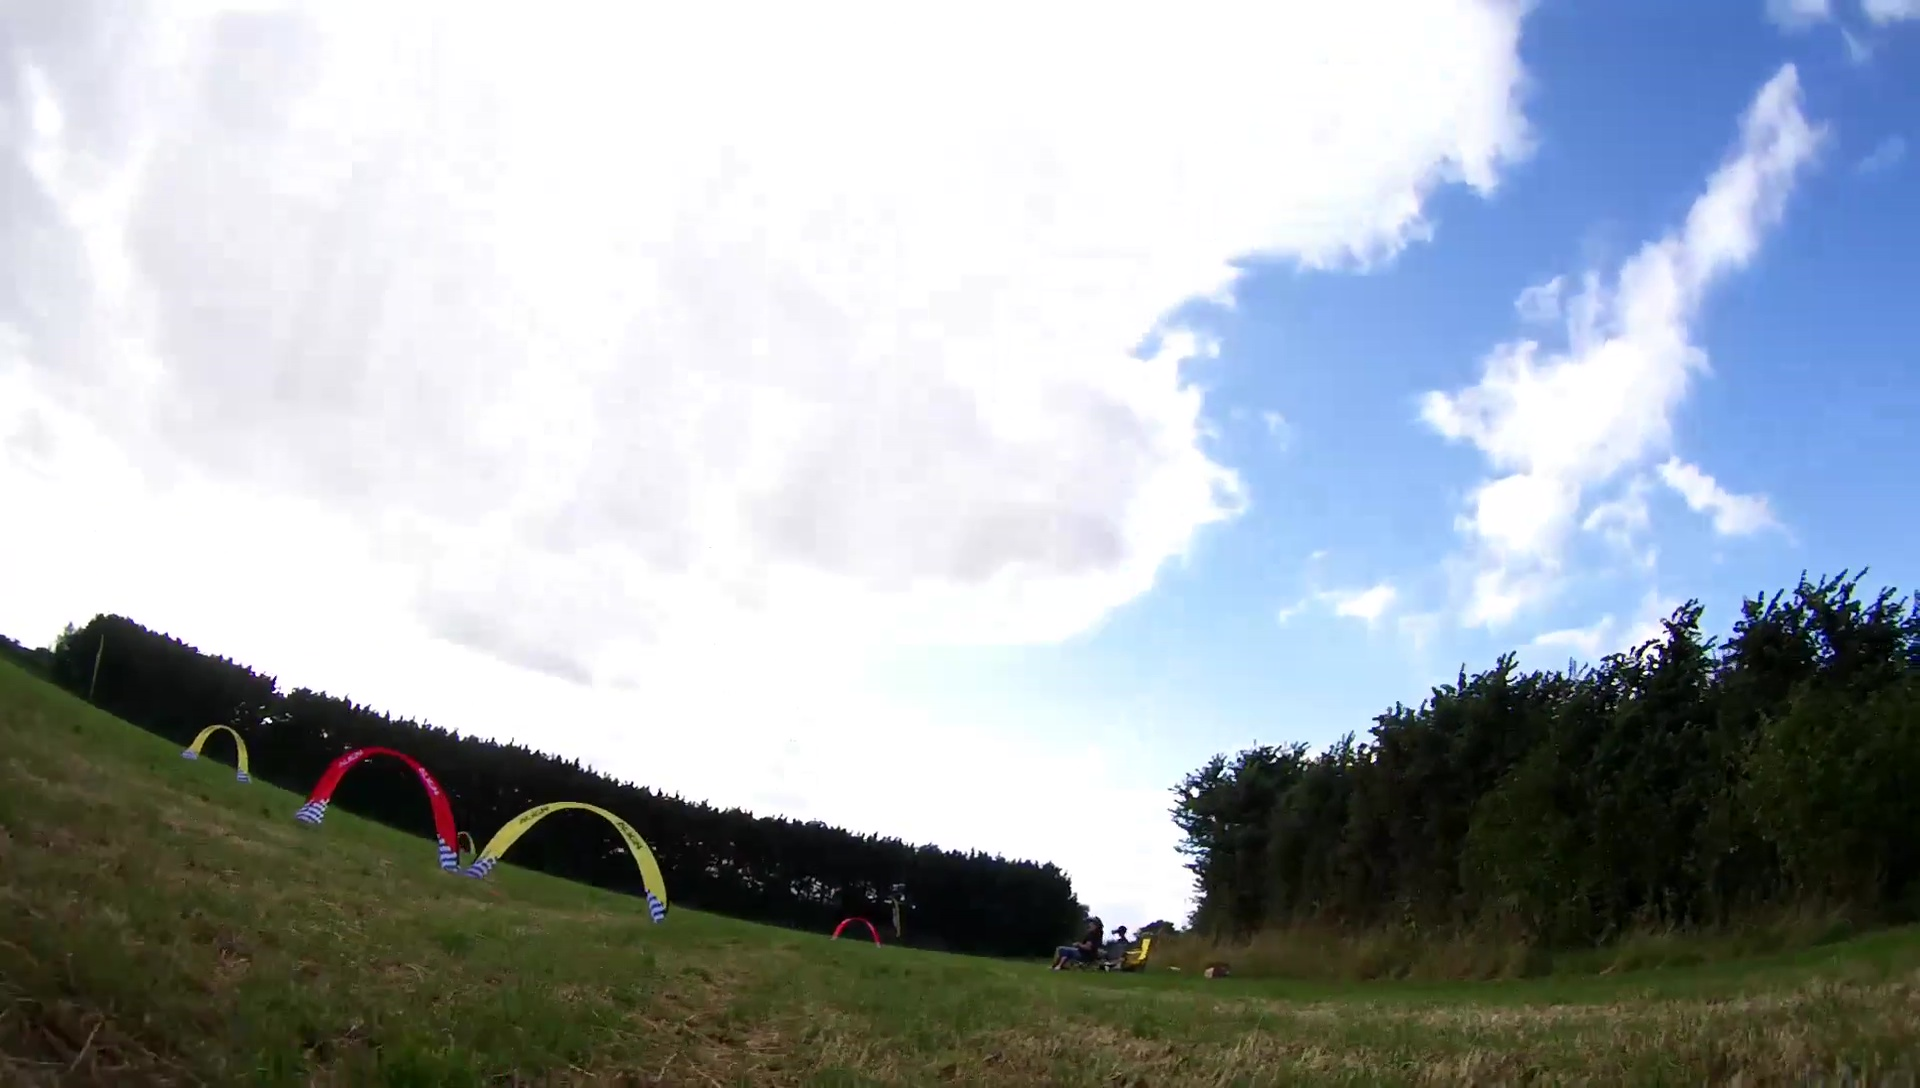gate: (468, 801, 674, 924), (295, 746, 467, 873), (179, 721, 255, 787), (831, 917, 885, 950)
